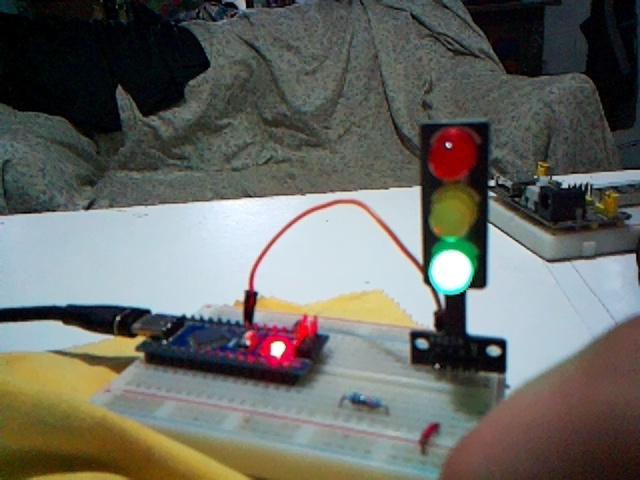traffic_light_green: (421, 121, 489, 297)
